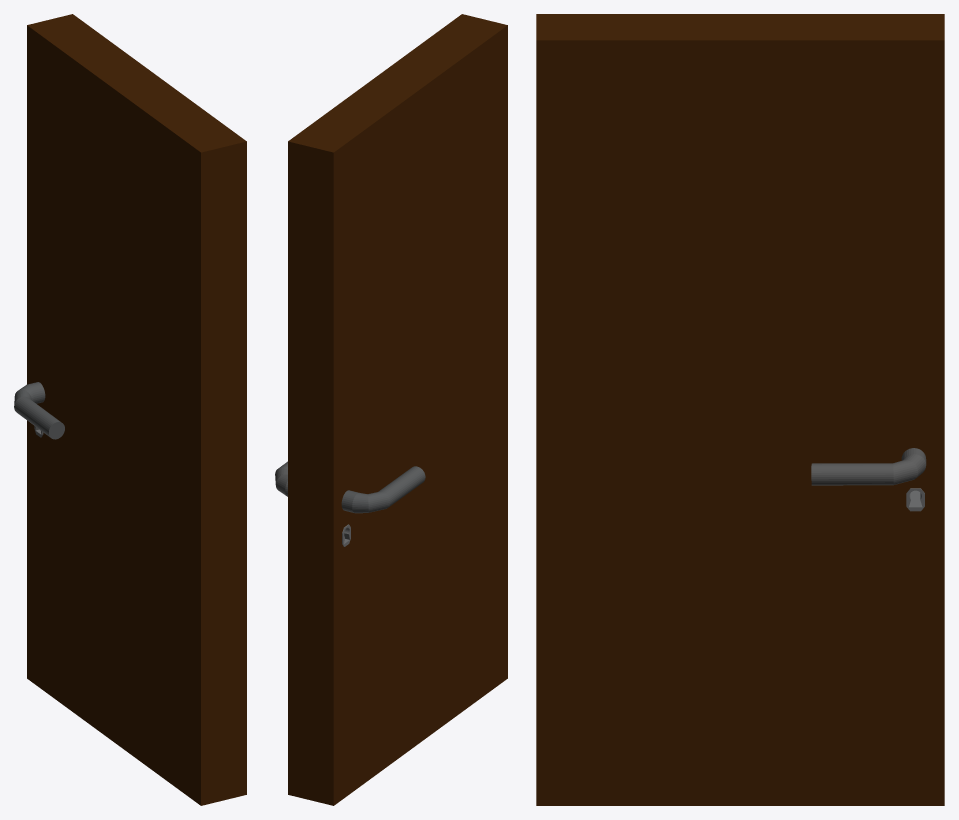
Rendered from door.fbx.
3 renders of one model, left to right at view 1: azimuth 30°, elevation 25°; view 2: azimuth 150°, elevation 25°; view 3: azimuth 270°, elevation 25°, orthographic. The views are drawn at different scales.
Visible parts, largest first — view 1: Cube, Cylinder; view 2: Cube, Cylinder; view 3: Cube, Cylinder.001.
Part boxes in pixels (x1=…): Cube: x1=27, y1=14, x2=246, y2=805; Cylinder: x1=14, y1=382, x2=64, y2=439; Cube: x1=288, y1=14, x2=507, y2=805; Cylinder: x1=341, y1=466, x2=425, y2=513; Cube: x1=536, y1=14, x2=944, y2=805; Cylinder.001: x1=811, y1=448, x2=926, y2=485.
Size of the model in its own units: 21.53 by 116 by 56.09.
